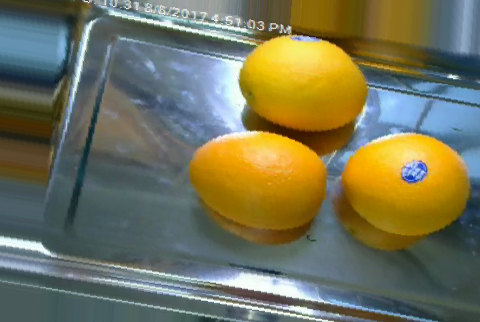Orange: (189, 129, 330, 229), (341, 131, 469, 236), (239, 32, 371, 130)
